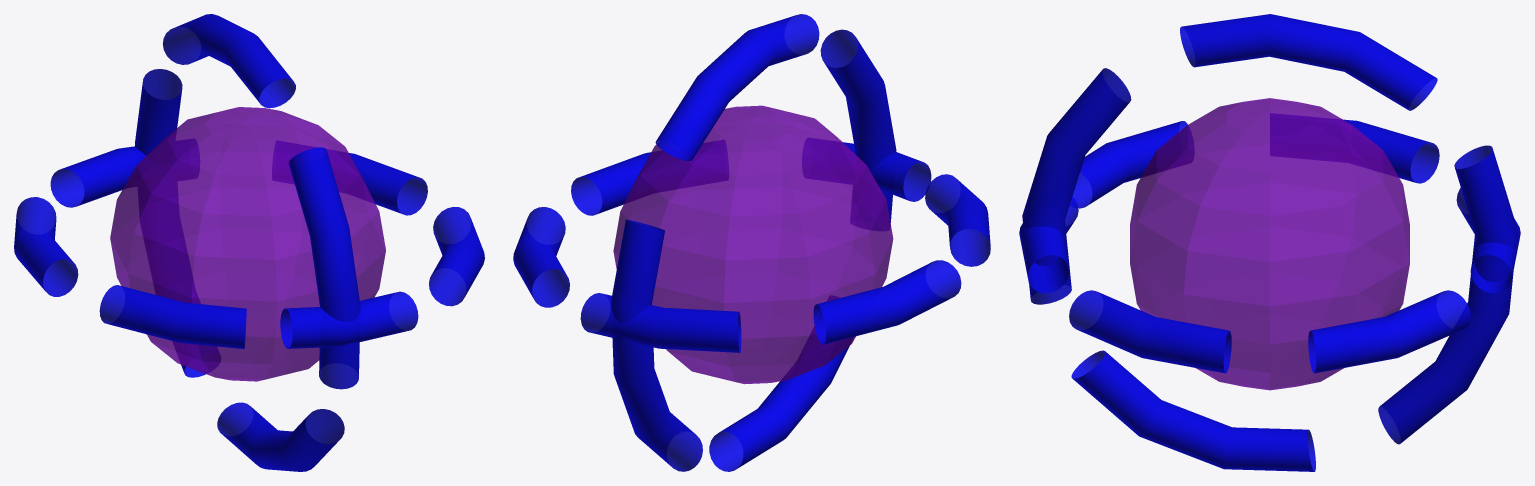
File: bala_alien.fbx
The picture shows the model from 3 angles, left to right: view 1: azimuth 30°, elevation 25°; view 2: azimuth 150°, elevation 25°; view 3: azimuth 270°, elevation 25°; orthographic projection. The views are drawn at different scales.
Parts seen in each view (by area): view 1: pSphere2, pTorus1, pTorus2; view 2: pSphere2, pTorus2, pTorus1; view 3: pSphere2, pTorus2, pTorus1.
Boxes of the visible parts, x1,y1,x2,y2 form: pSphere2: [110, 107, 385, 381]; pTorus1: [14, 146, 484, 348]; pTorus2: [135, 14, 360, 471]; pSphere2: [613, 105, 893, 384]; pTorus2: [611, 14, 896, 471]; pTorus1: [513, 142, 990, 352]; pSphere2: [1130, 98, 1409, 390]; pTorus2: [1022, 14, 1517, 471]; pTorus1: [1019, 119, 1520, 373].
Bounding box in the file's own units: 0.3805 × 0.3776 × 0.3829.
